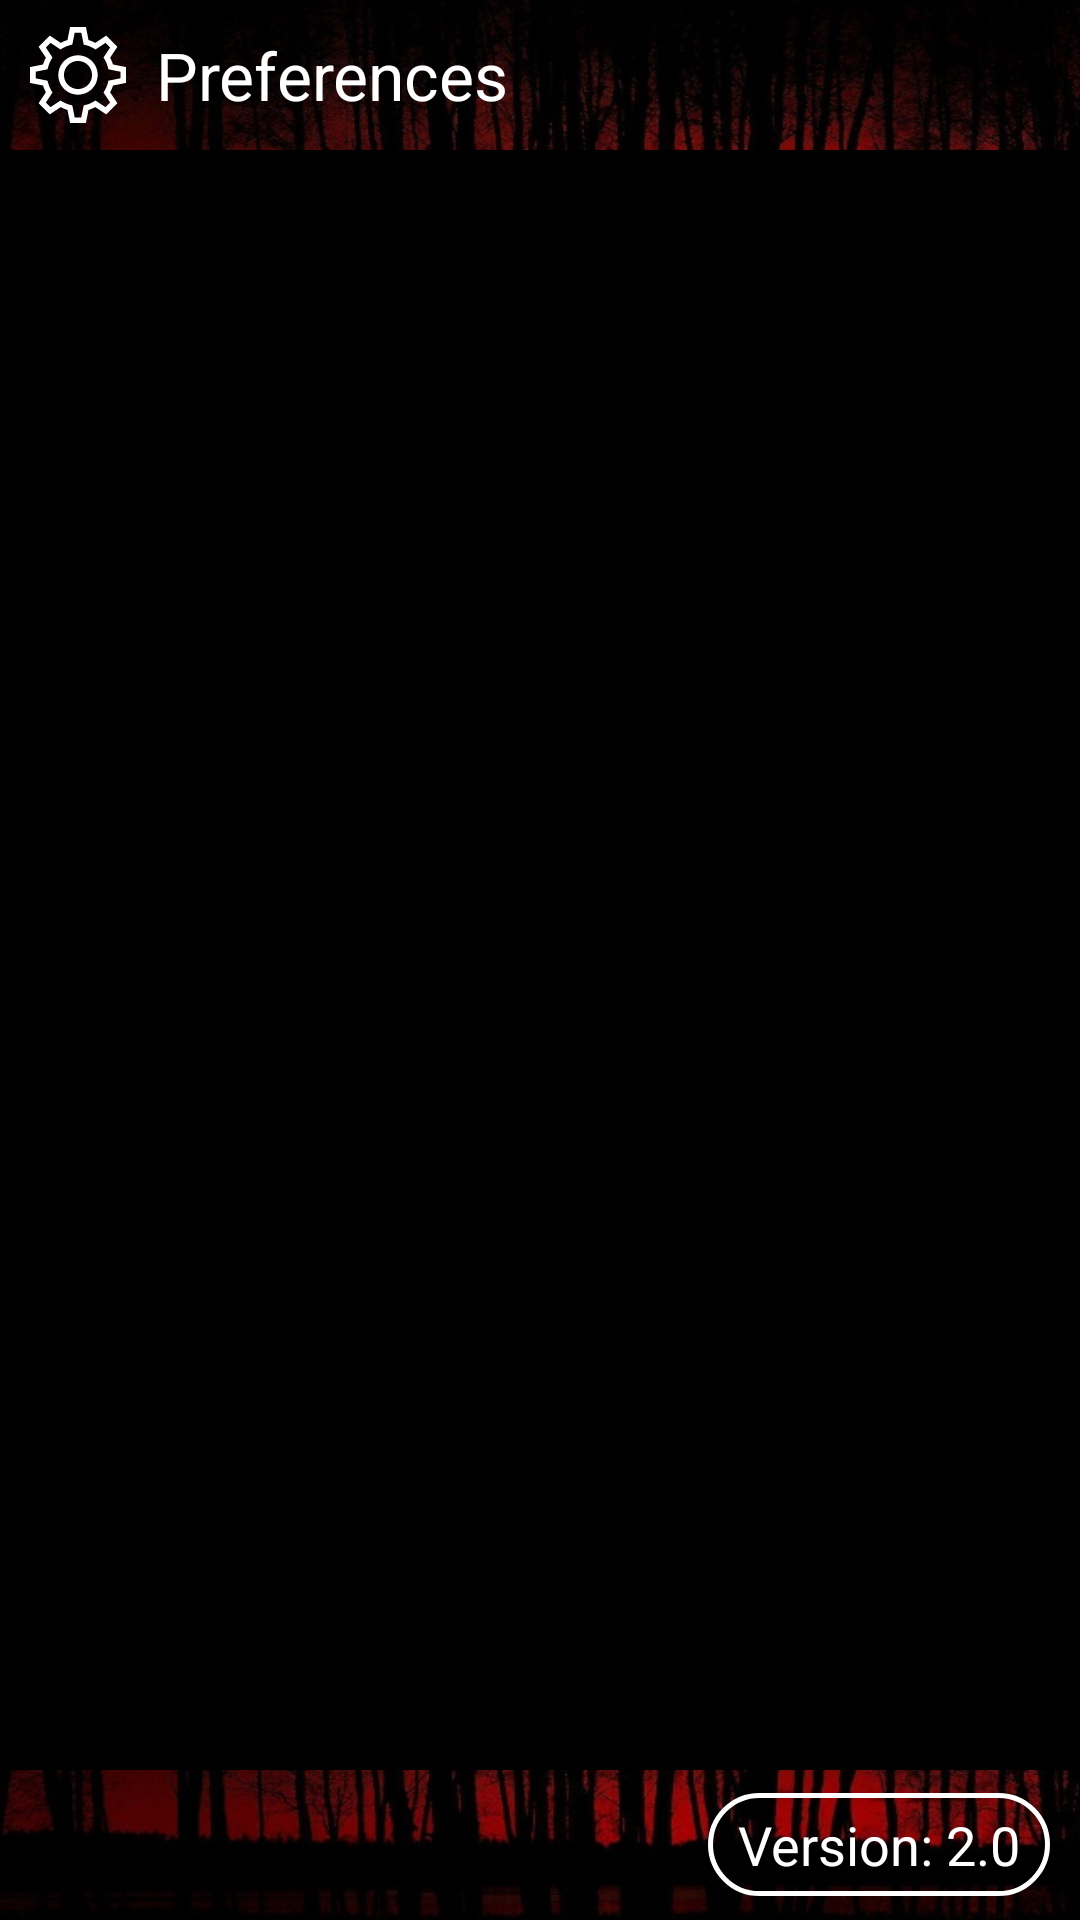

Where to tap for icons on this 1080x1920 app screen, as [x,y]:
pref bwhite: [78,75]
